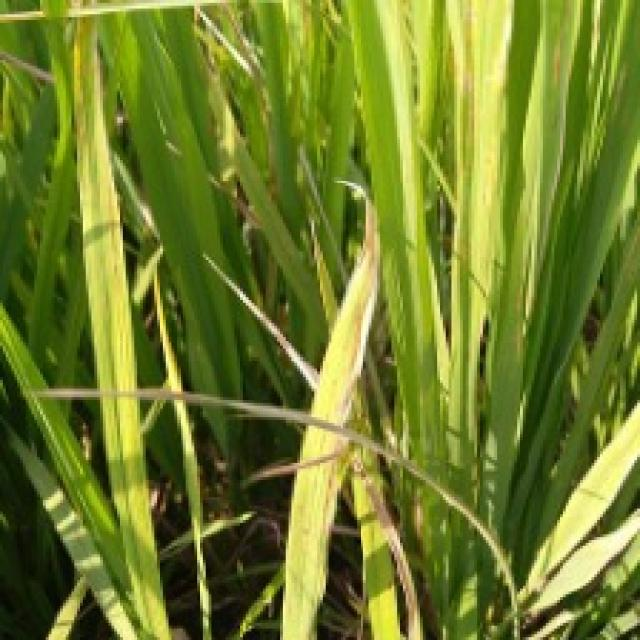Rice___Bacterial_Leaf_Blight: (282, 176, 381, 637)
